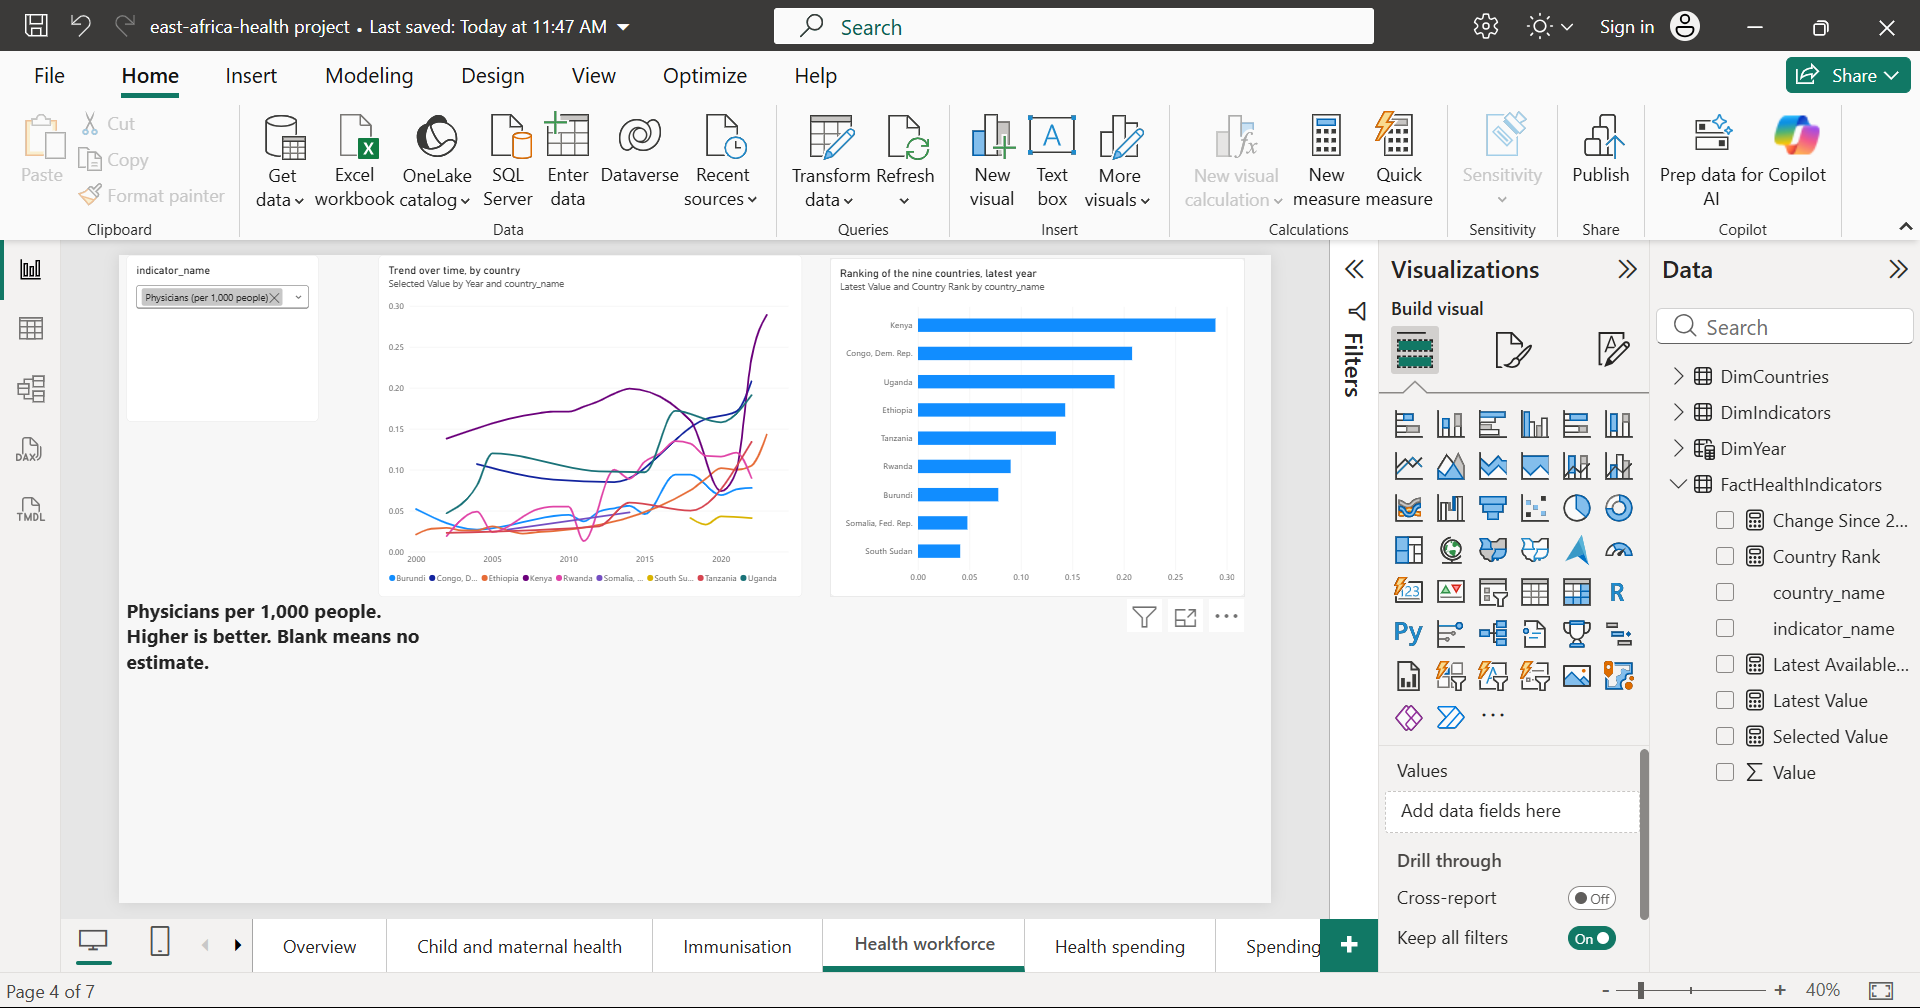

Layout of this report page (visuals, bound fields, positions):
{"tool":"powerbi","page":{"name":"Health workforce","canvas":[1920,1080],"ordinal":3},"visuals":[{"type":"listSlicer","fields":{"Values":["DimIndicators.indicator_name"]},"box":[11.3,0,320.3,277.8],"z":0},{"type":"lineChart","title":"Trend over time, by country","fields":{"Category":["DimYear.Year"],"Series":["FactHealthIndicators.country_name"],"Y":["FactHealthIndicators.Selected Value"]},"box":[433.7,0,705.8,569.8],"z":1000},{"type":"clusteredBarChart","title":"Ranking of the nine countries, latest year","fields":{"Category":["FactHealthIndicators.country_name"],"Y":["FactHealthIndicators.Latest Value"]},"box":[1184.9,5.7,691.7,564.1],"z":2000},{"type":"textbox","box":[11.3,569.8,521.6,170.1],"z":3000}]}

Visuals, with their boxes on the page's 1920x1080 design canvas (x1, y1, x2, y2). These are canvas units, not pixel positions in the 1920x1008 screenshot, which may show the page scaled, cropped or inside an application window:
listSlicer - DimIndicators.indicator_name: <region>11, 0, 332, 278</region>
"Trend over time, by country" lineChart: <region>434, 0, 1140, 570</region>
"Ranking of the nine countries, latest year" clusteredBarChart: <region>1185, 6, 1877, 570</region>
textbox: <region>11, 570, 533, 740</region>
